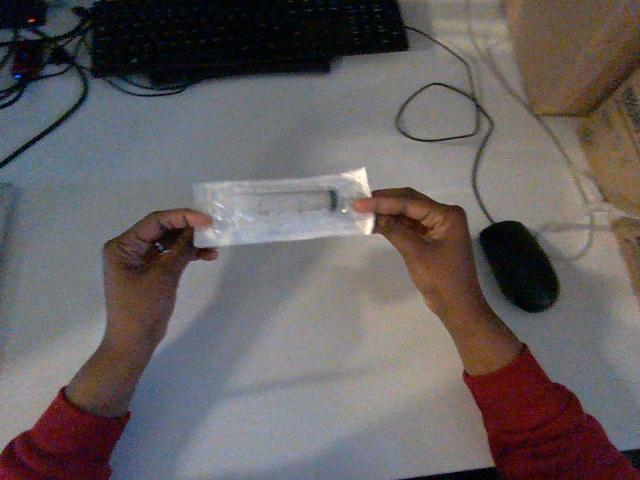syringe: (193, 168, 374, 246)
